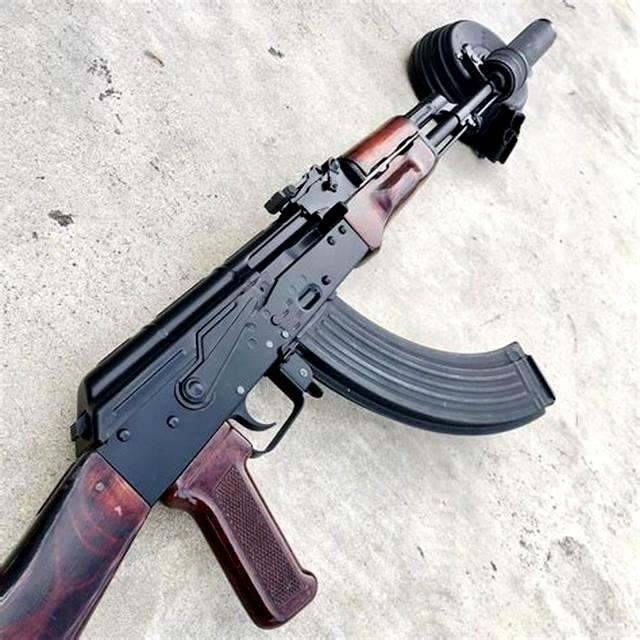ak: (0, 14, 565, 635)
